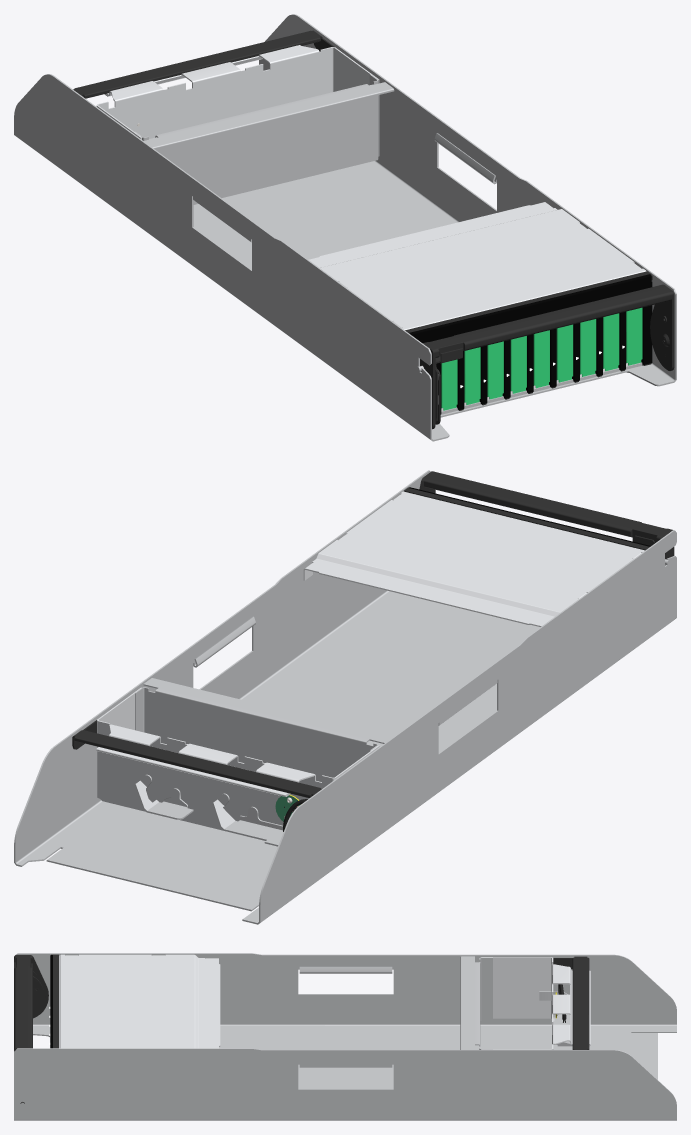
The model's file is cosmo-ext-1-texture.glb.
The picture shows the model from 3 angles, top to bottom: view 1: azimuth 30°, elevation 25°; view 2: azimuth 150°, elevation 25°; view 3: azimuth 270°, elevation 25°; orthographic projection. The views are drawn at different scales.
Parts seen in each view (by area): view 1: Frame_low.004_block.002, c_low, Frame_low.004_block.033, Plane.036, Plane.039, Plane.037, Plane.032, Plane.033, Plane.035, Plane.034, Plane.038, Plane.031; view 2: Frame_low.004_block.002, Frame_low.004_block.033; view 3: Frame_low.004_block.002, Frame_low.004_block.033, c_low.
Part boxes in pixels (left/top/right/bottom): Frame_low.004_block.002: left=14, top=14, right=676, bottom=441; c_low: left=409, top=274, right=652, bottom=414; Frame_low.004_block.033: left=405, top=271, right=652, bottom=410; Plane.036: left=556, top=324, right=573, bottom=382; Plane.039: left=626, top=307, right=642, bottom=365; Plane.037: left=580, top=319, right=596, bottom=376; Plane.032: left=464, top=347, right=480, bottom=404; Plane.033: left=487, top=341, right=503, bottom=399; Plane.035: left=533, top=330, right=549, bottom=388; Plane.034: left=510, top=336, right=526, bottom=393; Plane.038: left=603, top=313, right=619, bottom=371; Plane.031: left=441, top=359, right=457, bottom=410; Frame_low.004_block.002: left=14, top=470, right=676, bottom=924; Frame_low.004_block.033: left=404, top=487, right=650, bottom=550; Frame_low.004_block.002: left=14, top=953, right=676, bottom=1120; Frame_low.004_block.033: left=50, top=954, right=58, bottom=1048; c_low: left=50, top=955, right=52, bottom=1048.
Bounding box in the file's own units: 0.2659 × 0.0928 × 0.765.
